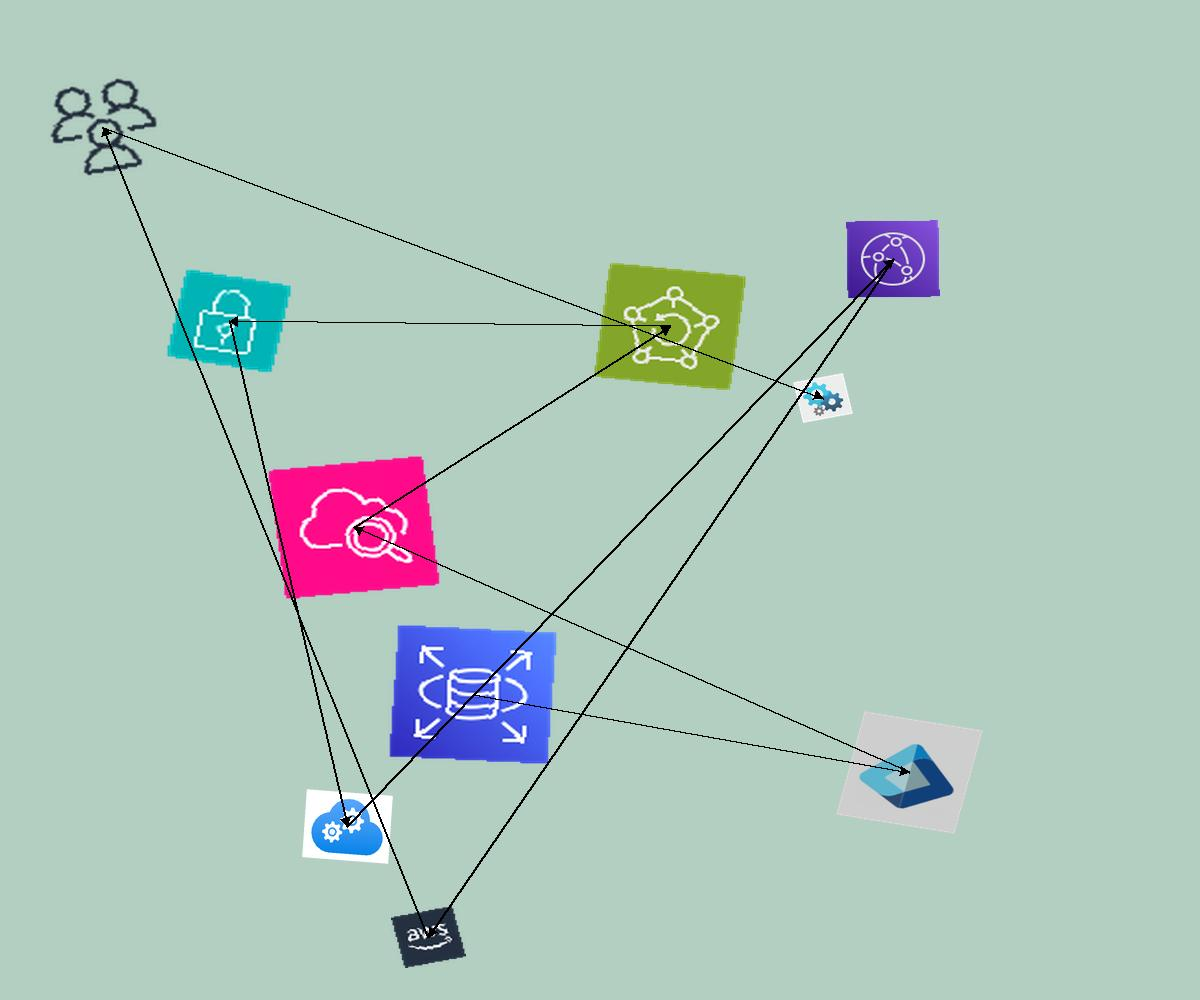AWS-Backup: (593, 262, 747, 391)
AWS-Cloud-logo: (391, 906, 466, 968)
AWS-CloudFront: (846, 220, 940, 298)
AWS-CloudWatch: (267, 455, 441, 600)
AWS-Private-subnet: (165, 268, 293, 374)
AWS-RDS: (388, 624, 558, 765)
AWS-Res_Users: (34, 69, 173, 185)
Azure_api: (793, 373, 853, 423)
Azure_cloud_services: (302, 789, 393, 864)
Azure_microsoft_entra: (836, 711, 983, 834)
